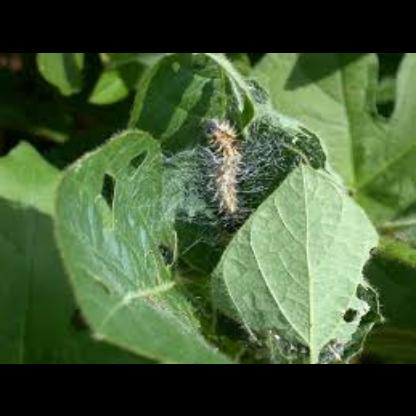oruga: (192, 115, 238, 212)
